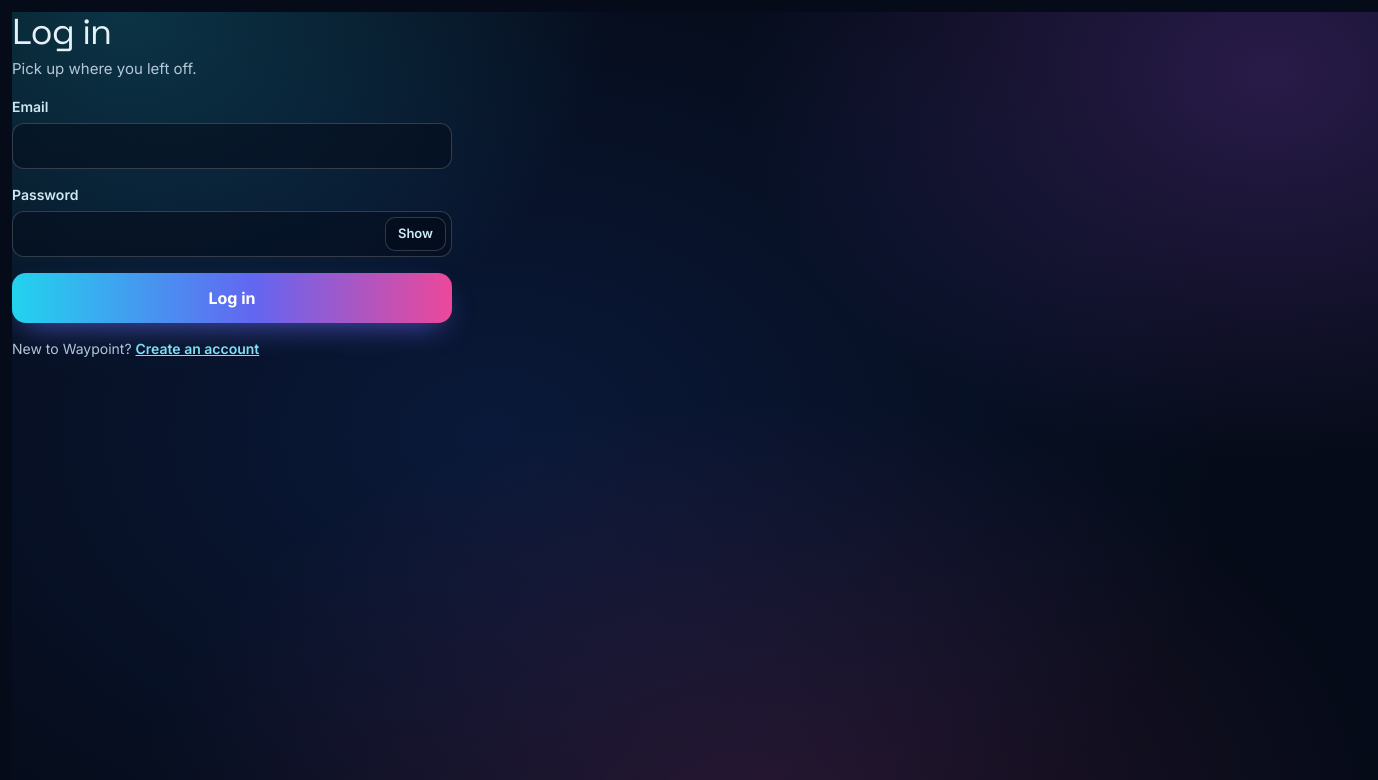
Test: AuthForm › explains a bad email format
Type "rani@" into the field labelled "Email" at [232, 146], box [12, 122, 452, 168]
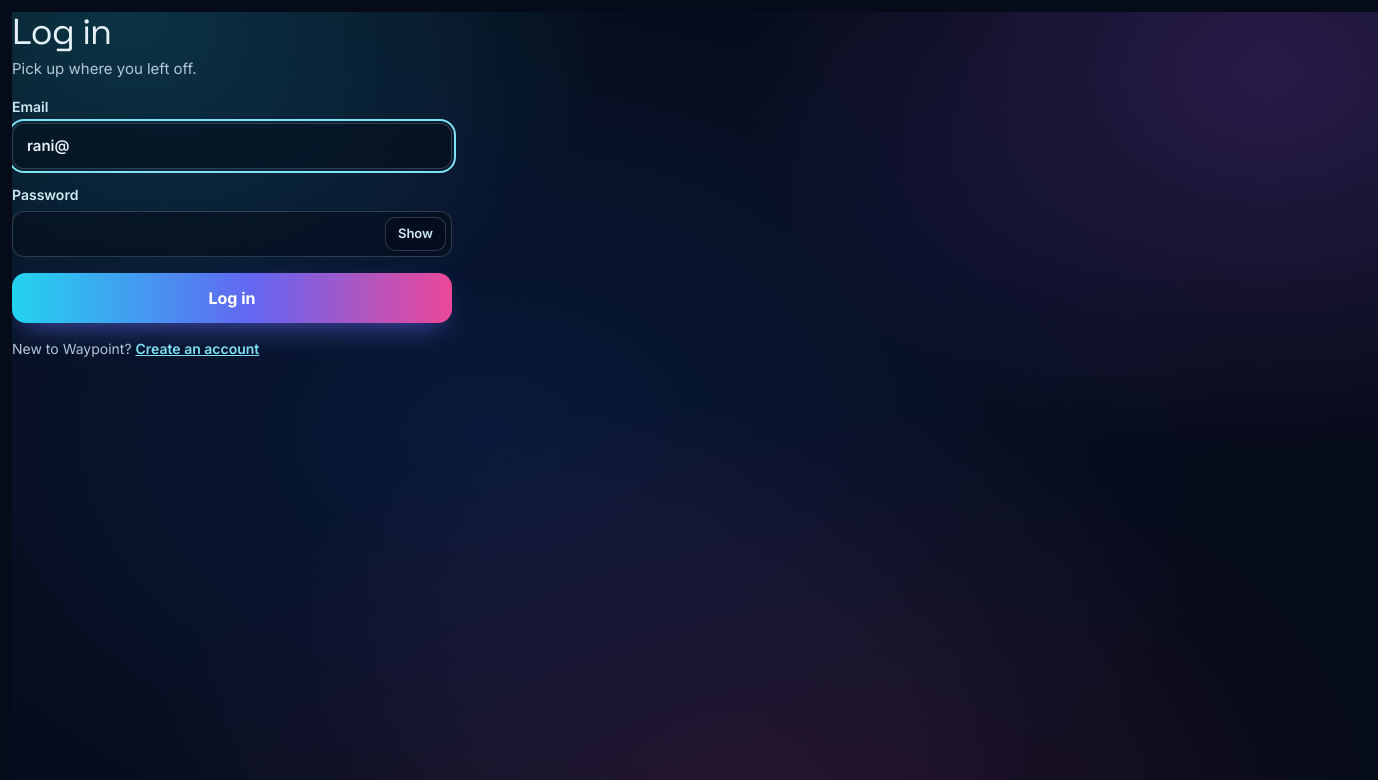
Type "x" into the password field labelled "Password" at [232, 234], box [12, 210, 452, 256]
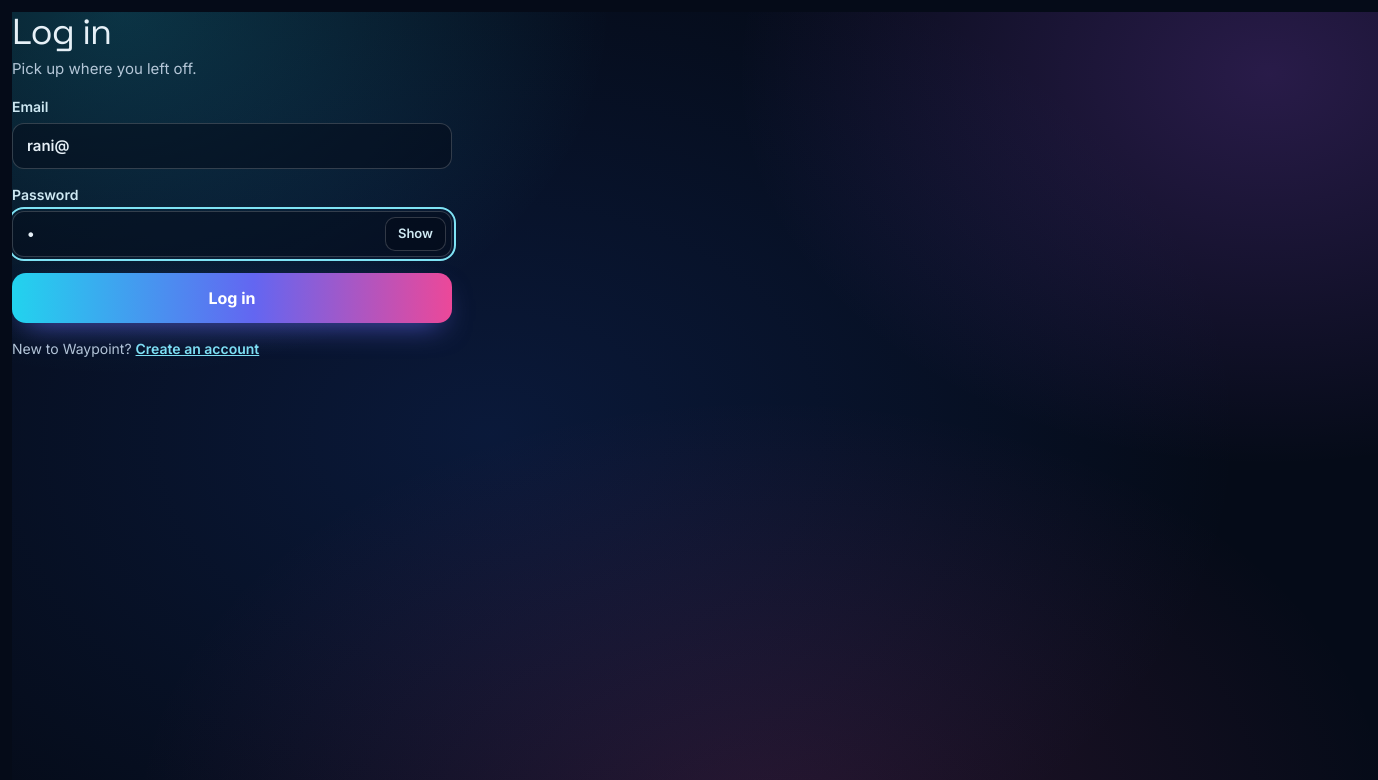
Click the button named "Log in" at [232, 298], box [12, 272, 452, 322]
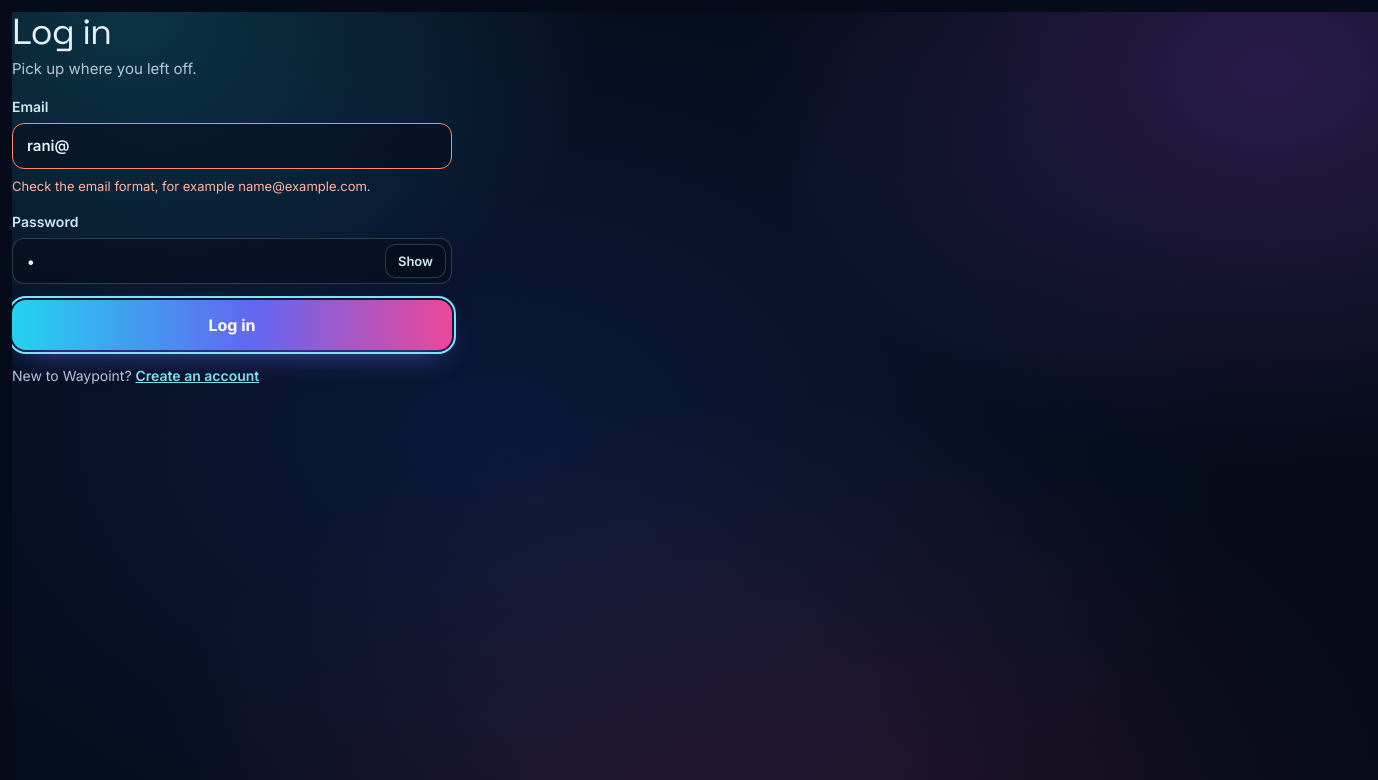
Now the text "Check the email format, for example name@example.com." is shown, box [12, 178, 371, 194]
